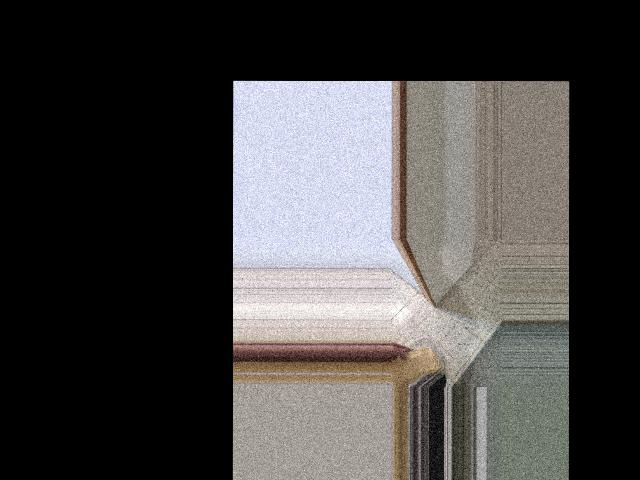cheese: (390, 339, 444, 388)
